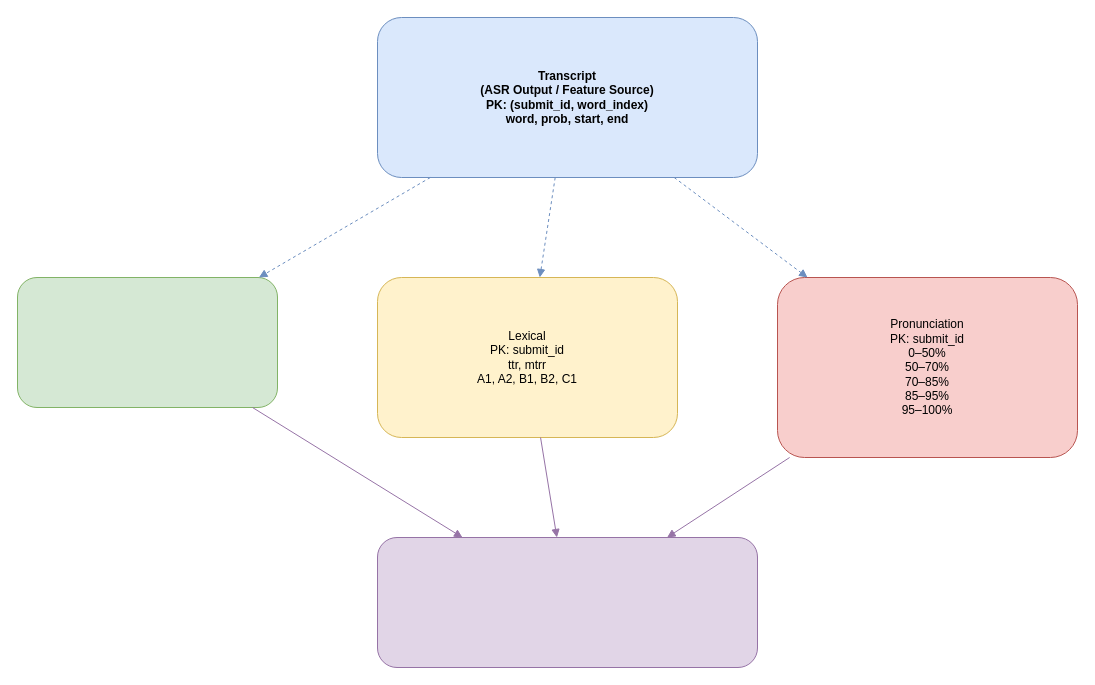
Image size: 1095x685. Some labels were removed from this diagram. The shapes that lost their labels are listed below. From the top down, each one's centre as x and y in pixels, then its label:
At point (147, 342): "Fluency PK: submit_id speed_rate pause_ratio".
At point (567, 602): "Feedback PK: (user_id, submit_id) feedback".
